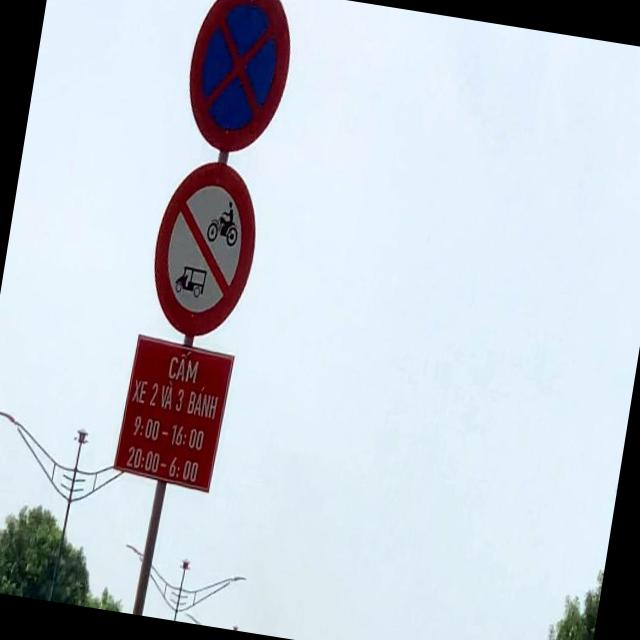P-104: (142, 155, 267, 340)
P-130: (177, 0, 300, 157)
